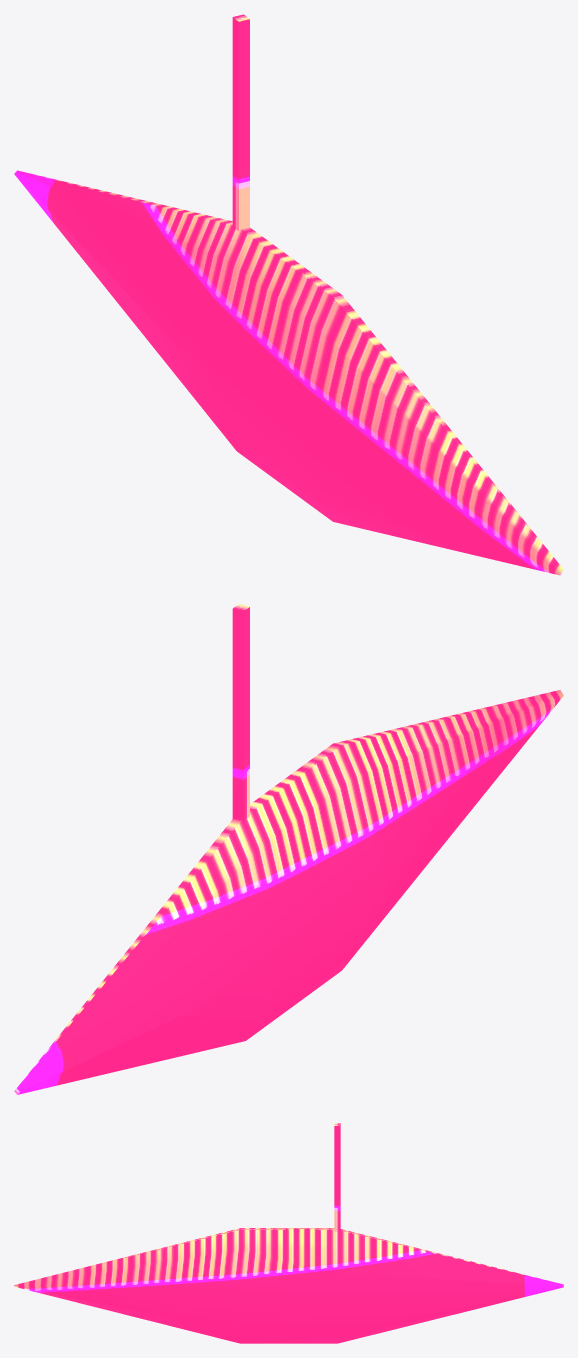
The model's file is POD_R.glb.
3 views of the same model, one above another, from view 1: azimuth 30°, elevation 25°; view 2: azimuth 150°, elevation 25°; view 3: azimuth 270°, elevation 25° (orthographic). The views are drawn at different scales.
Parts seen in each view (by area): view 1: POD_R_03_LITE; view 2: POD_R_03_LITE; view 3: POD_R_03_LITE.
Boxes of the visible parts, x1=… form: POD_R_03_LITE: x1=14, y1=14, x2=563, y2=575; POD_R_03_LITE: x1=14, y1=604, x2=563, y2=1094; POD_R_03_LITE: x1=14, y1=1123, x2=563, y2=1343.
Bounding box in the file's own units: 0.2405 × 1.49 × 3.4.
Materials: 1 (1 with a texture image).
